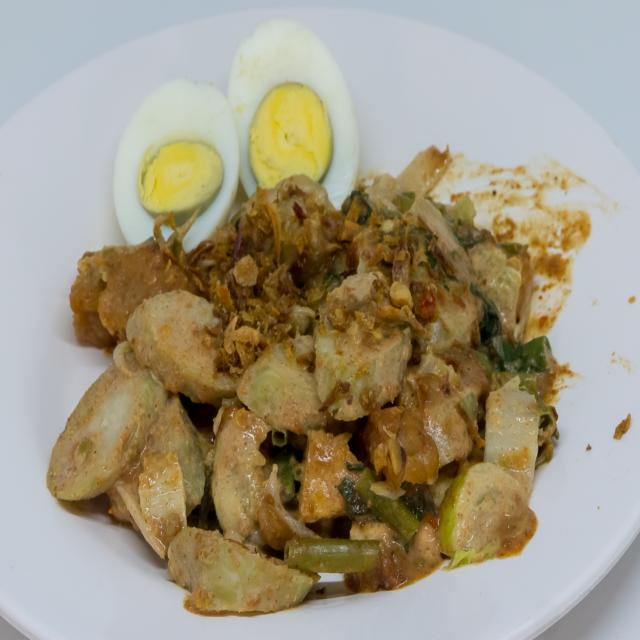Gado-Gado: (36, 10, 568, 622)
